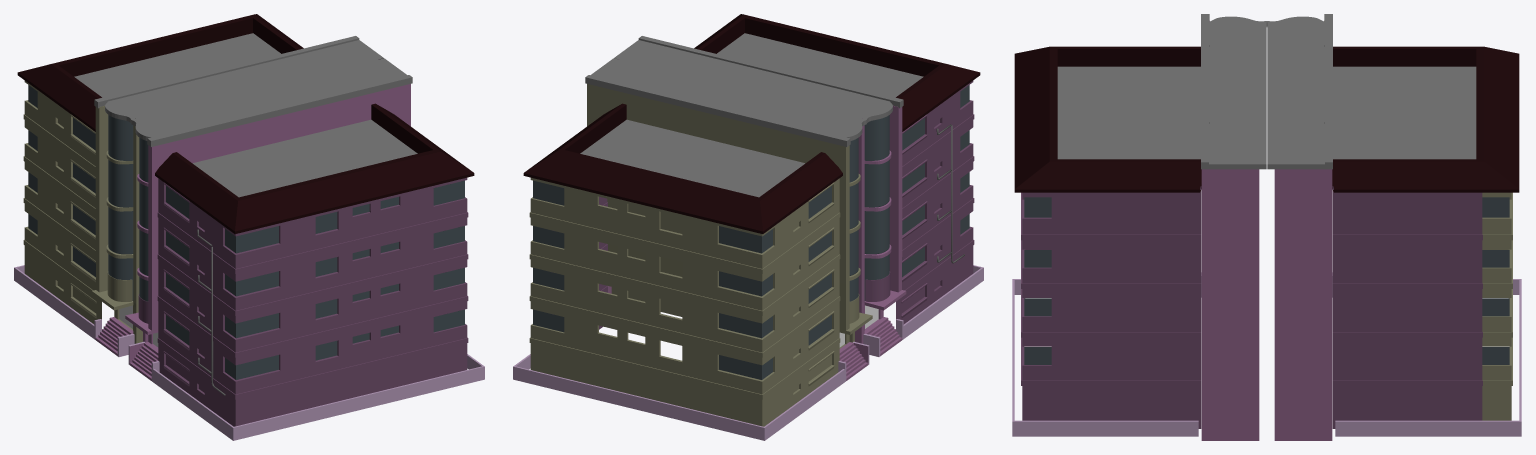
The model's file is Stage2_building3.fbx.
3 views of the same model, side by side, from view 1: azimuth 30°, elevation 25°; view 2: azimuth 150°, elevation 25°; view 3: azimuth 270°, elevation 25° (orthographic). The views are drawn at different scales.
Visible parts, largest first — view 1: Cube.255, Cube.257, Cube.023, Cube.025, Cube.266, Cube.258, Cube.176, Cube.269, Cube.180, Cube.182, Cube.262, Cube.265 (+10 smaller); view 2: Cube.023, Cube.025, Cube.257, Cube.255, Cube.180, Cube.176, Cube.258, Cube.181, Cube.266, Cube.272, Cube.178, Cube.179 (+8 smaller); view 3: Cube.186, Cube.280, Cube.025, Cube.257, Cube.281, Cube.187, Cube.176, Cube.258, Cube.023, Cube.255, Cube.181, Cube.269 (+2 smaller).
Boxes of the visible parts, x1,y1,x2,y2 form: Cube.255: (157,177,468,426); Cube.257: (155,103,474,233); Cube.023: (23,80,101,324); Cube.025: (17,14,303,131); Cube.266: (125,84,410,348); Cube.258: (131,58,412,146); Cube.176: (94,36,383,123); Cube.269: (151,354,484,440); Cube.180: (91,105,142,343); Cube.182: (108,115,133,300); Cube.262: (225,226,278,379); Cube.265: (433,180,464,332); Cube.023: (529,177,840,426); Cube.025: (523,103,842,233); Cube.257: (694,14,980,131); Cube.255: (896,80,974,324); Cube.180: (587,84,872,348); Cube.176: (585,58,866,146); Cube.258: (614,36,903,123); Cube.181: (513,354,846,440); Cube.266: (855,105,906,343); Cube.272: (864,115,889,300); Cube.178: (719,226,772,379); Cube.179: (533,180,564,332); Cube.186: (1332,186,1482,428); Cube.280: (1051,186,1201,428); Cube.025: (1332,46,1519,192); Cube.257: (1014,46,1201,192); Cube.281: (1201,169,1259,440); Cube.187: (1274,169,1332,440); Cube.176: (1267,14,1332,169); Cube.258: (1201,14,1266,169); Cube.023: (1482,192,1512,420); Cube.255: (1021,192,1051,420); Cube.181: (1332,272,1521,436); Cube.269: (1012,272,1201,436).
Size of the model in its own units: 7123 by 6191 by 10218.
